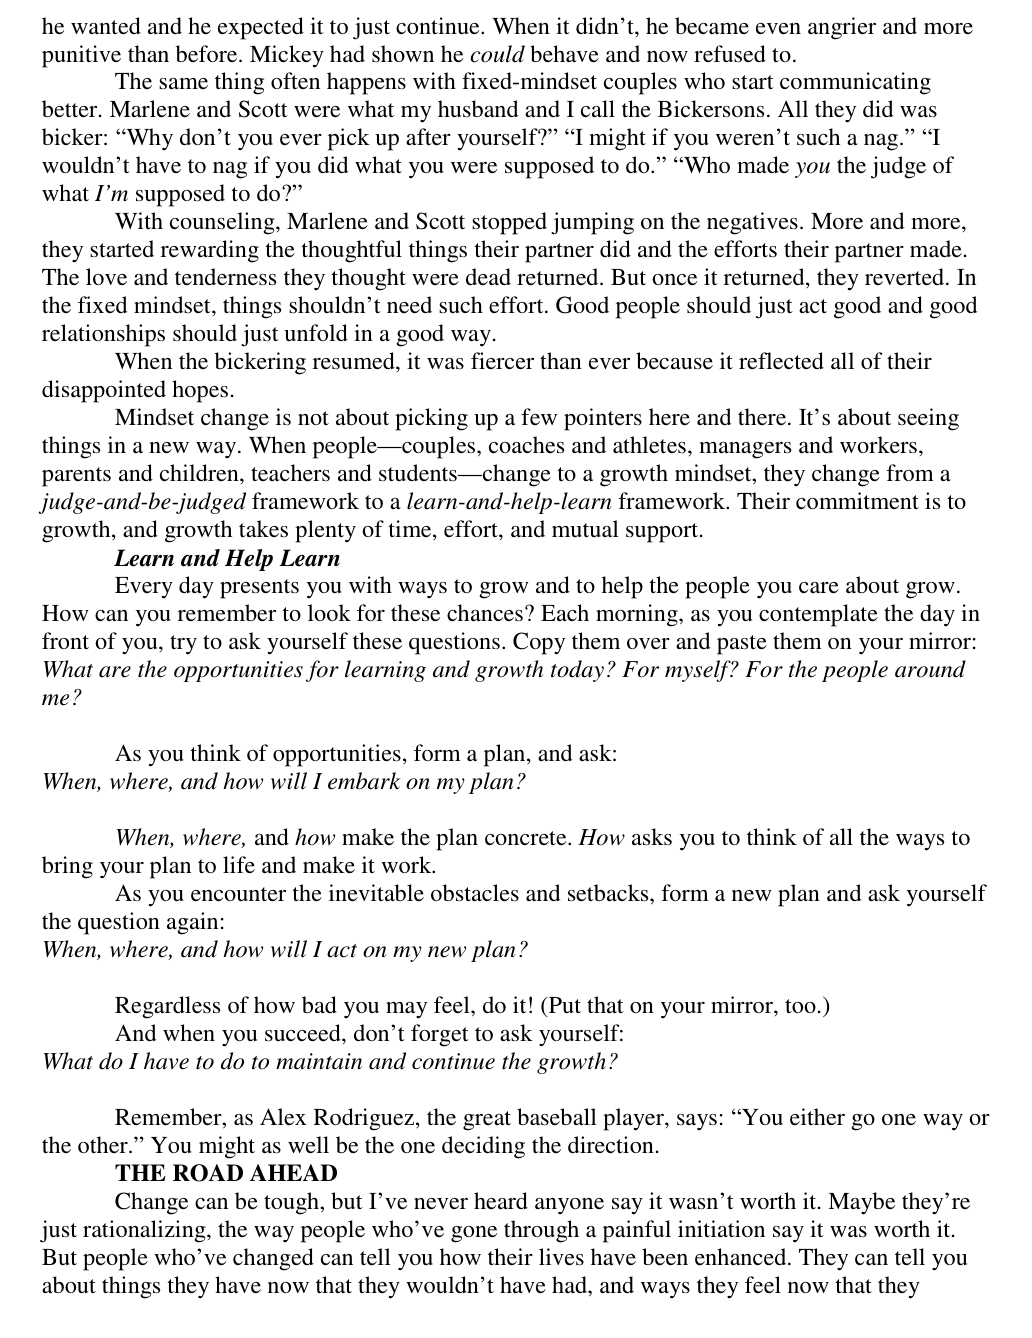latin: (40, 743, 986, 961), (37, 1103, 991, 1304), (37, 12, 981, 209), (34, 207, 982, 400), (34, 553, 983, 712), (24, 401, 977, 551), (38, 996, 833, 1078)
